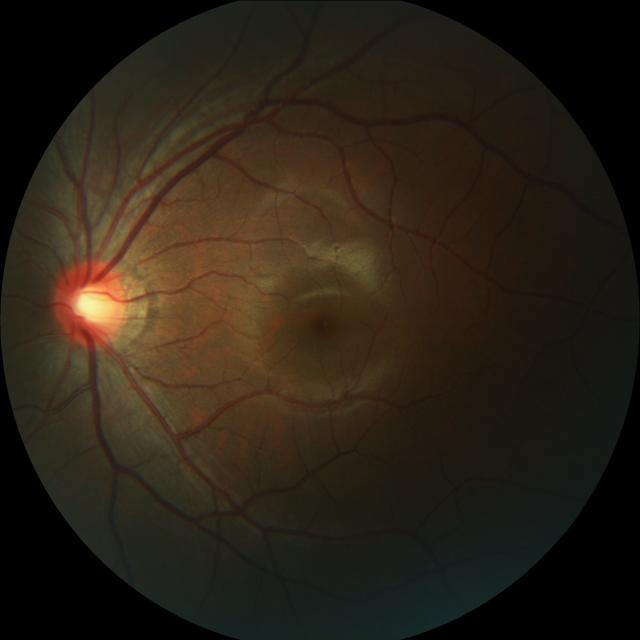OC: (72, 280, 114, 324)
OD: (52, 260, 127, 345)
